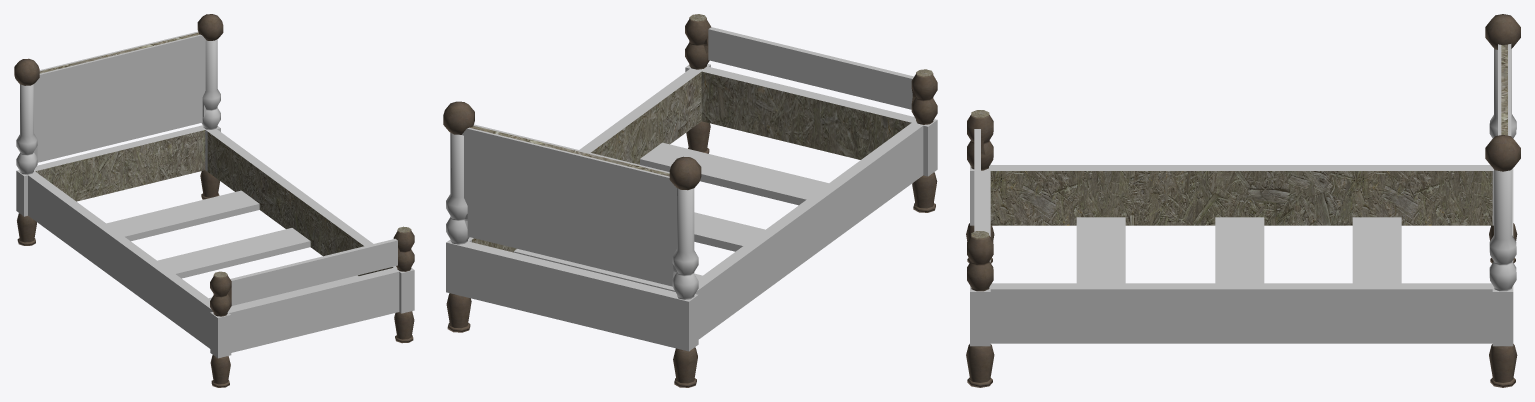
File: BedFrameATwin.fbx
3 views of the same model, side by side, from view 1: azimuth 30°, elevation 25°; view 2: azimuth 150°, elevation 25°; view 3: azimuth 270°, elevation 25° (orthographic). The views are drawn at different scales.
Parts seen in each view (by area): view 1: BedFrameATwin; view 2: BedFrameATwin; view 3: BedFrameATwin.
Boxes of the visible parts, x1,y1,x2,y2 form: BedFrameATwin: [14, 14, 414, 387]; BedFrameATwin: [443, 14, 937, 387]; BedFrameATwin: [966, 14, 1520, 387].
Bounding box in the file's own units: 143 × 120 × 246.
